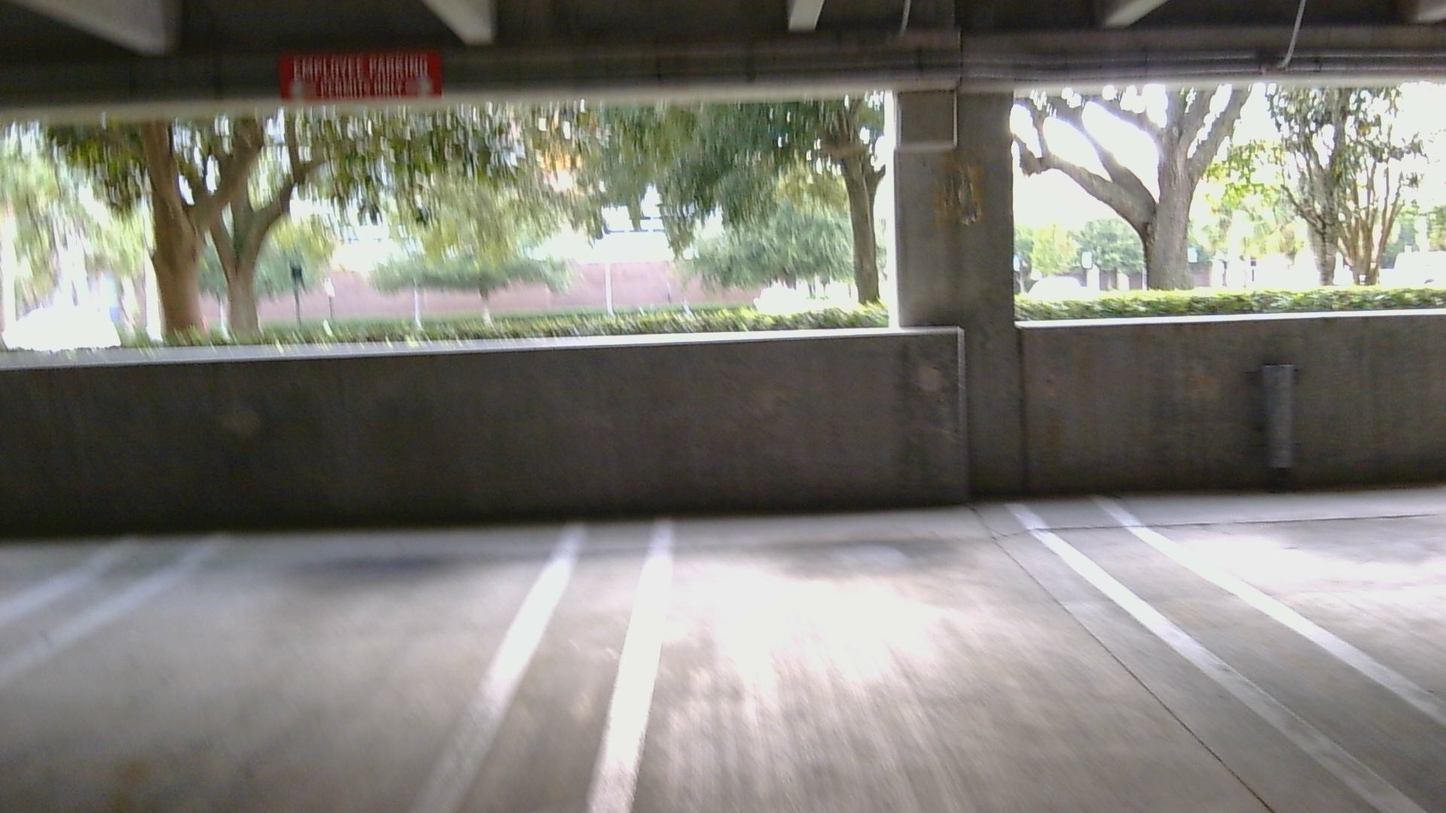empty_spot: (516, 365, 1445, 813), (0, 425, 609, 808), (1072, 371, 1446, 755)
